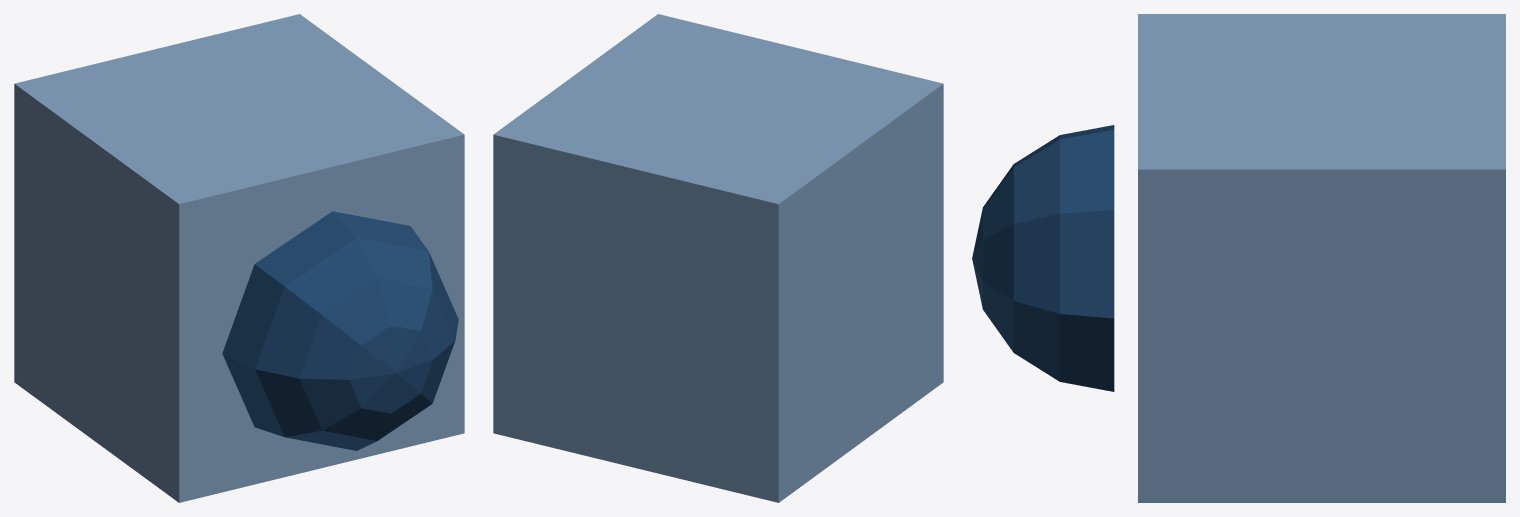
The model's file is tpVideo_emergencyExitBtnB_blue_80.gltf.
The picture shows the model from 3 angles, left to right: view 1: azimuth 30°, elevation 25°; view 2: azimuth 150°, elevation 25°; view 3: azimuth 270°, elevation 25°; orthographic projection. The views are drawn at different scales.
Visible parts, largest first — view 1: ExitButtonA; view 2: ExitButtonA; view 3: ExitButtonA.
Boxes of the visible parts, left/top/right/bottom form: ExitButtonA: left=14, top=14, right=464, bottom=502; ExitButtonA: left=493, top=14, right=943, bottom=502; ExitButtonA: left=972, top=14, right=1505, bottom=502.
Size of what is drawn, in the model's own units: 0.248 by 0.248 by 0.3598.
1 material, 1 textured.
